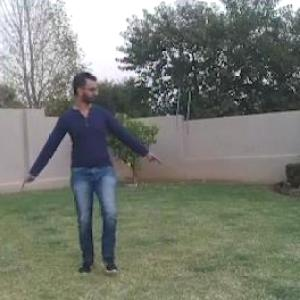land: (3, 66, 175, 292)
